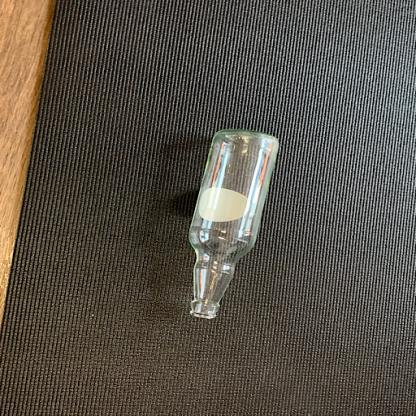trash: (185, 130, 283, 319)
